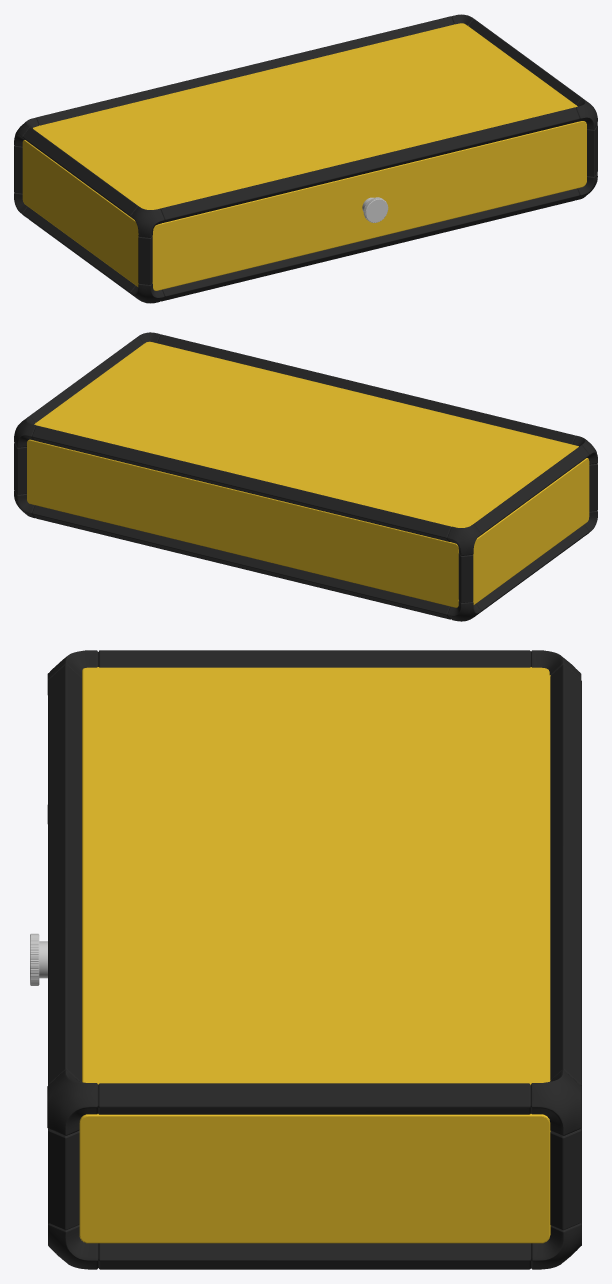
3 views of the same model, one above another, from view 1: azimuth 30°, elevation 25°; view 2: azimuth 150°, elevation 25°; view 3: azimuth 270°, elevation 25° (orthographic). The views are drawn at different scales.
Visible parts, largest first — view 1: 729x329x79; view 2: 729x329x79; view 3: 729x329x79.
Part boxes in pixels (x1,y1,x2,y2): 729x329x79: [14, 14, 597, 303]; 729x329x79: [14, 332, 597, 621]; 729x329x79: [30, 650, 581, 1269].
Size of the model in its own units: 0.8067 by 0.1565 by 0.4196.
